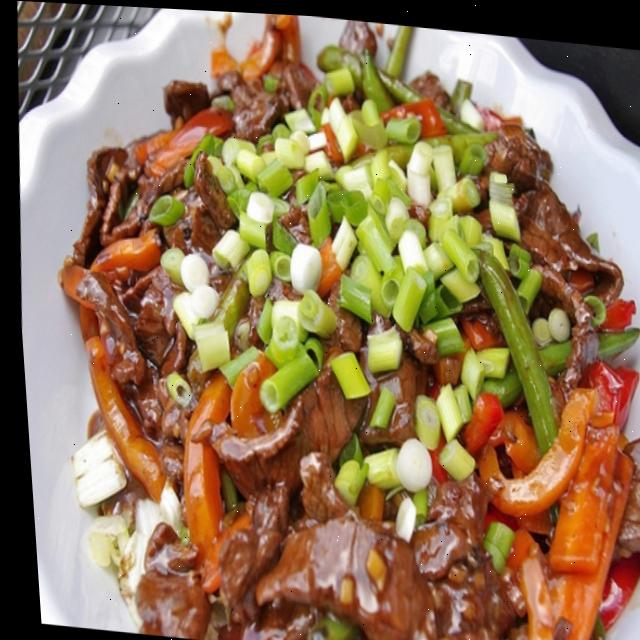牛肉菜式: (31, 1, 640, 640)
